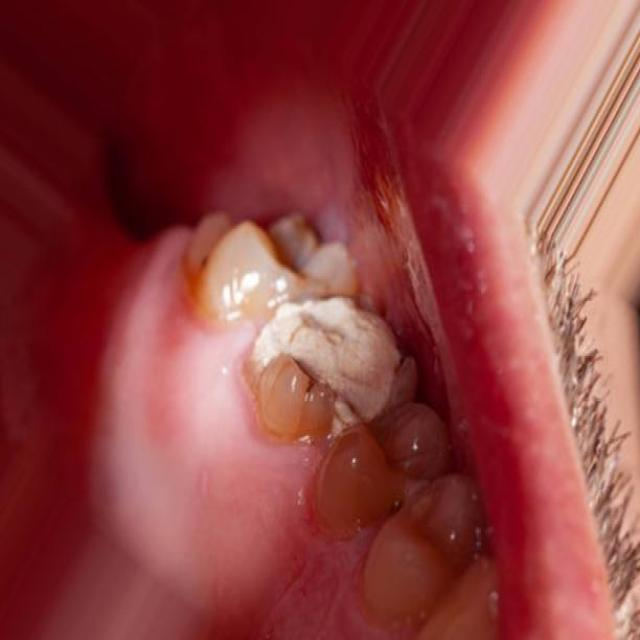caries: (259, 305, 396, 427)
